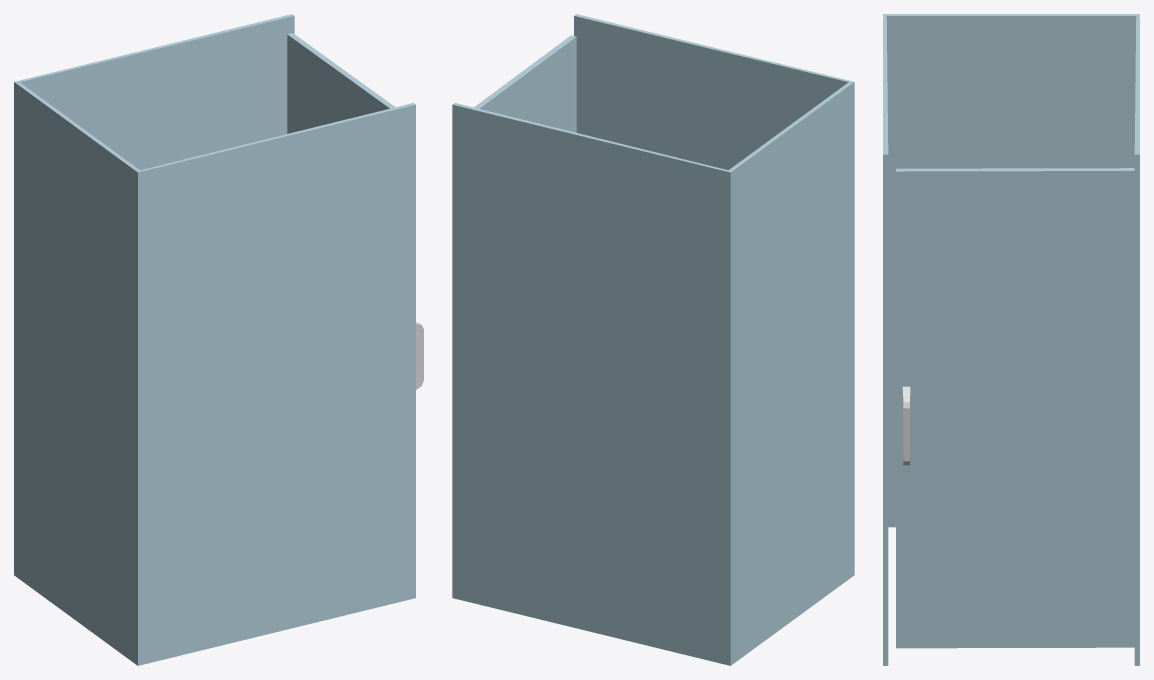
File: BANHEIROS CABINE.fbx
3 views of the same model, side by side, from view 1: azimuth 30°, elevation 25°; view 2: azimuth 150°, elevation 25°; view 3: azimuth 270°, elevation 25° (orthographic). The views are drawn at different scales.
Parts seen in each view (by area): view 1: cabine, porta; view 2: cabine, porta; view 3: porta, cabine.
Part boxes in pixels (<box>): cabine: <box>14,14,415,665</box>; porta: <box>287,33,423,389</box>; cabine: <box>452,14,854,665</box>; porta: <box>474,35,576,132</box>; porta: <box>896,168,1134,648</box>; cabine: <box>883,14,1139,665</box>.
Size of what is drawn, in the model's own units: 125 by 200 by 91.
